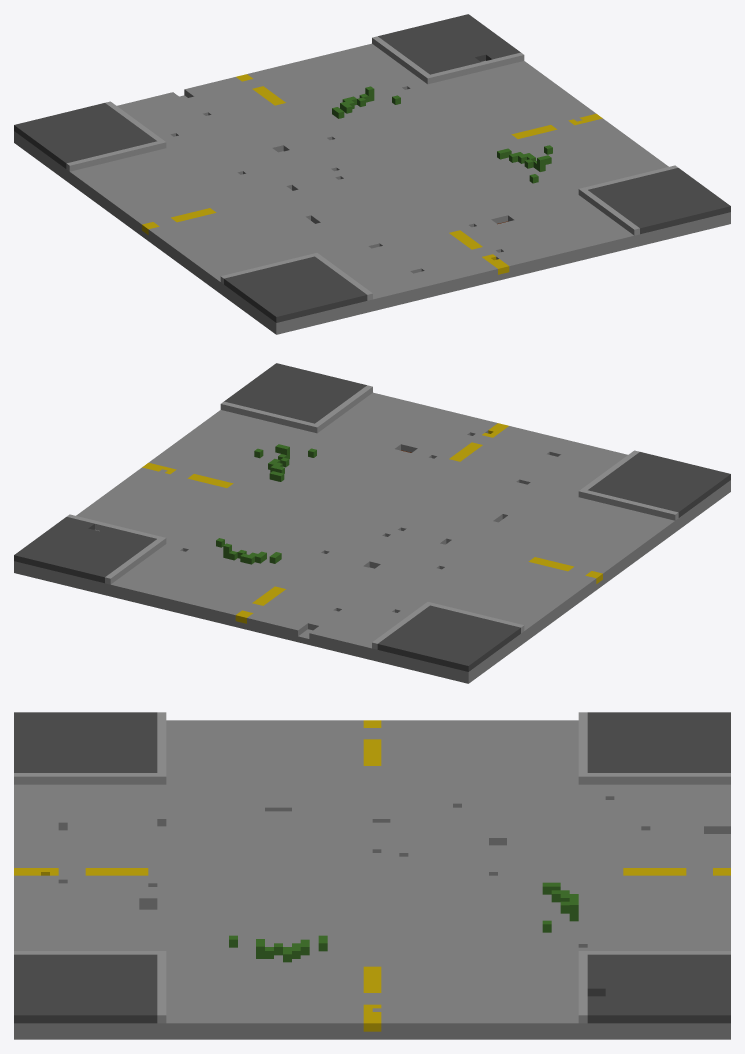
File: crossroad.obj
3 renders of one model, top to bottom at view 1: azimuth 30°, elevation 25°; view 2: azimuth 150°, elevation 25°; view 3: azimuth 270°, elevation 25°, orthographic. The views are drawn at different scales.
Bounding box in the file's own units: 8 × 0.4 × 8.
Materials: 1 (1 with a texture image).
